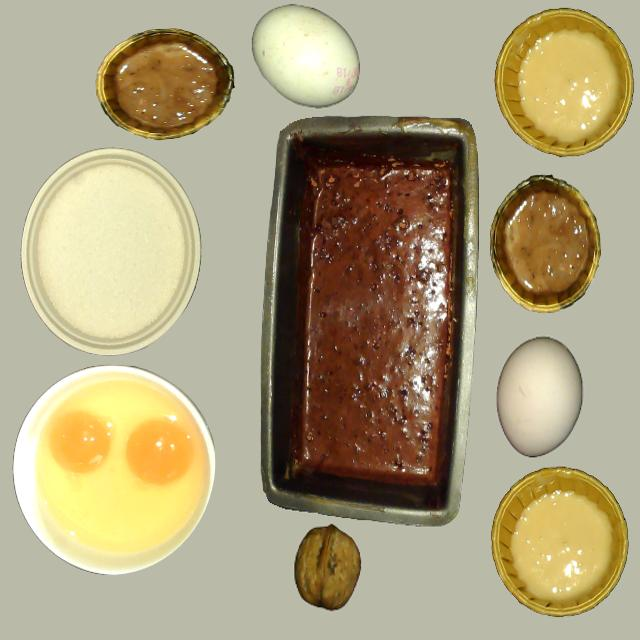Egg: (125, 418, 192, 486), (48, 410, 112, 474)
Sugar: (22, 149, 198, 355)
Walnut: (294, 525, 360, 609)
